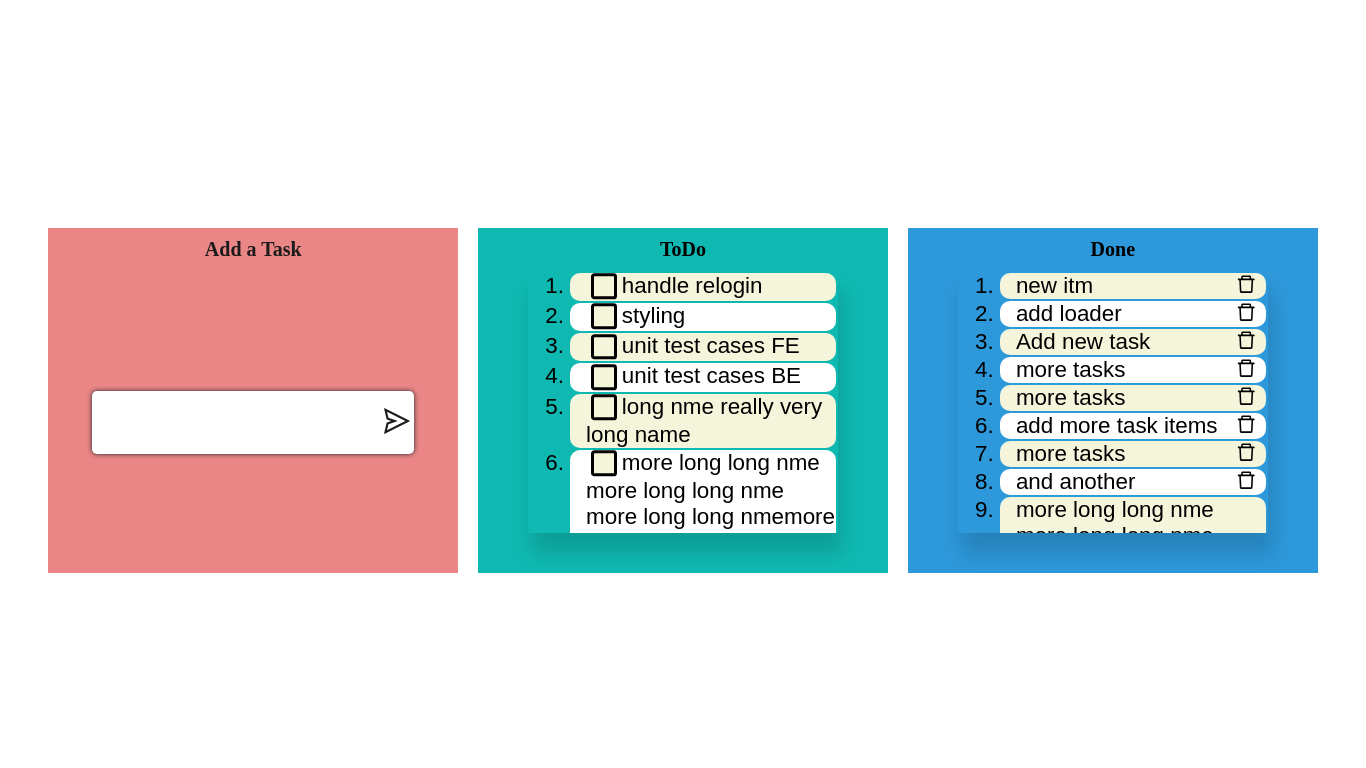
Test: Body component › Should throw error when create new Task fails
The image size is (1366, 768).
Type "new value" into the field with test id "taskInputField" at (253, 422), box 92,390 -> 414,454
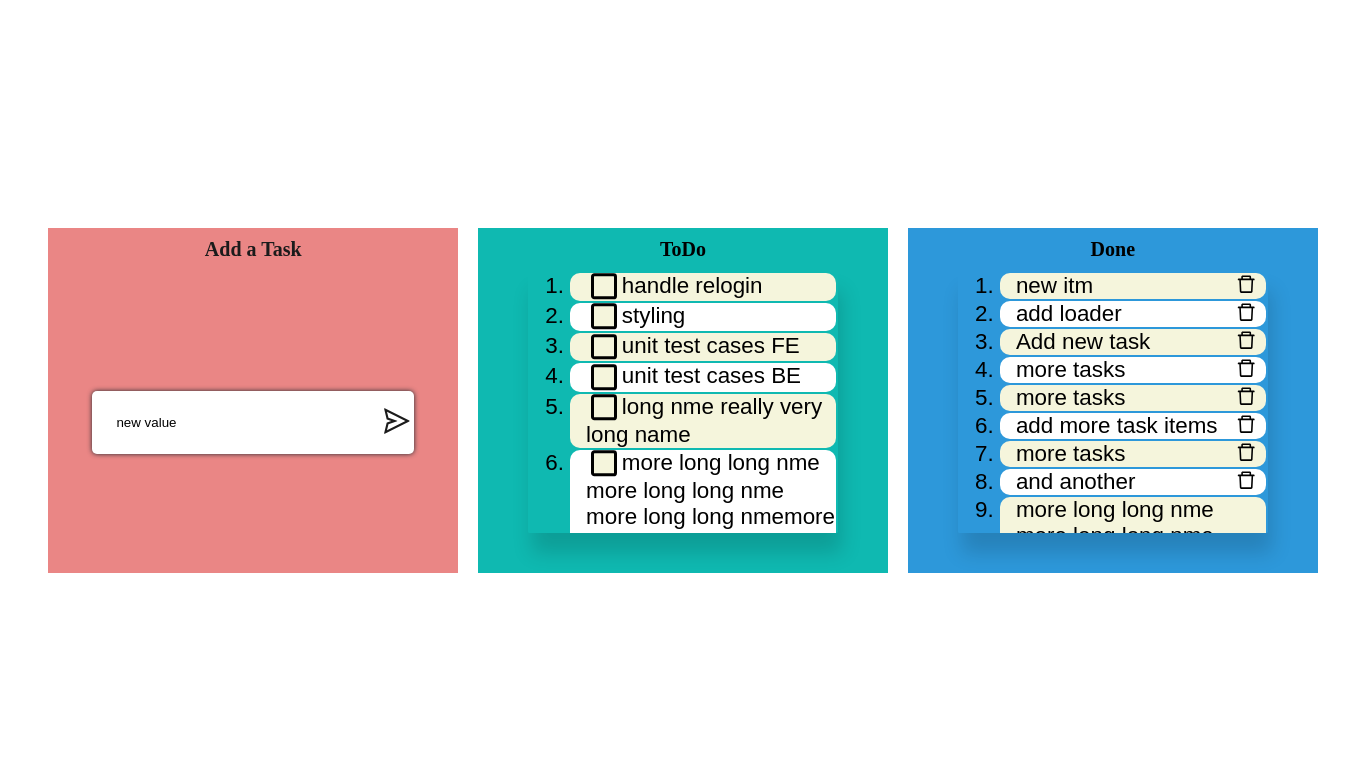
Click the icon with test id "submitTaskButton" at (397, 421), box 382,406 -> 412,436
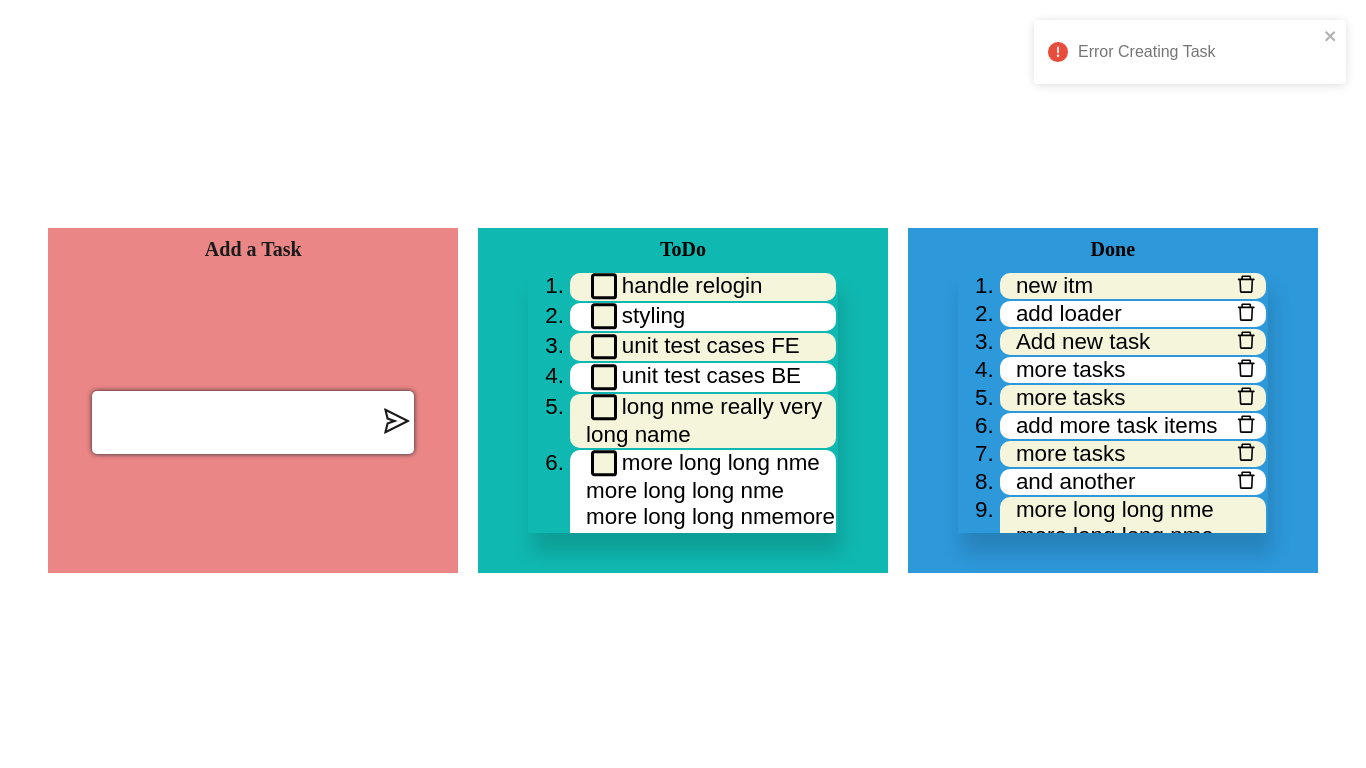
Now the text "Error Creating Task" is shown, box 1078,43 -> 1216,60
